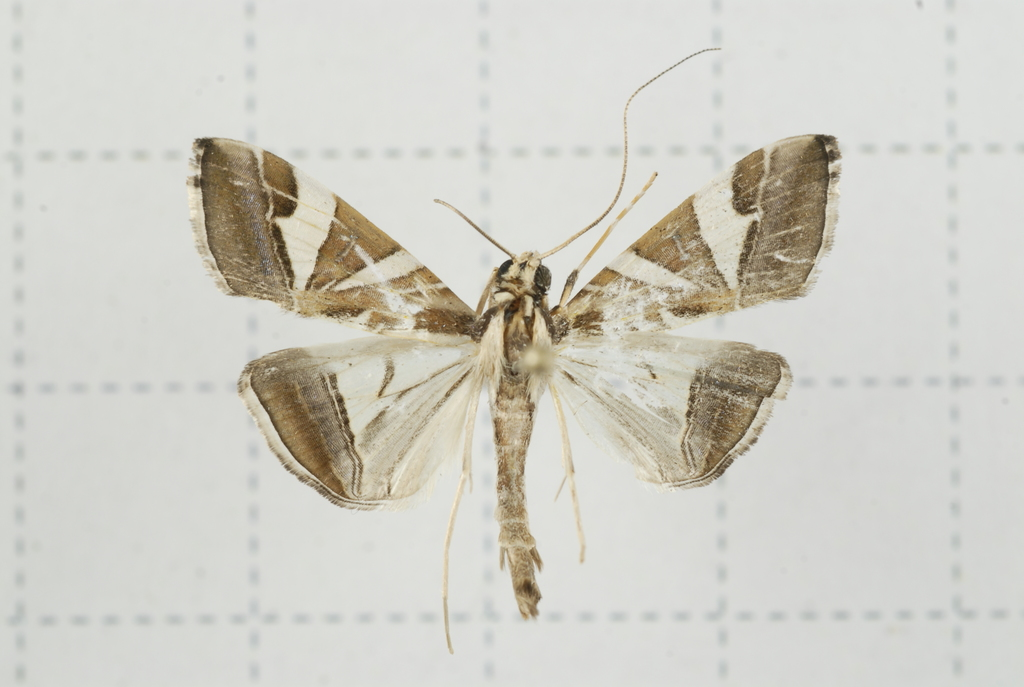Butterfly: (175, 121, 854, 621)
